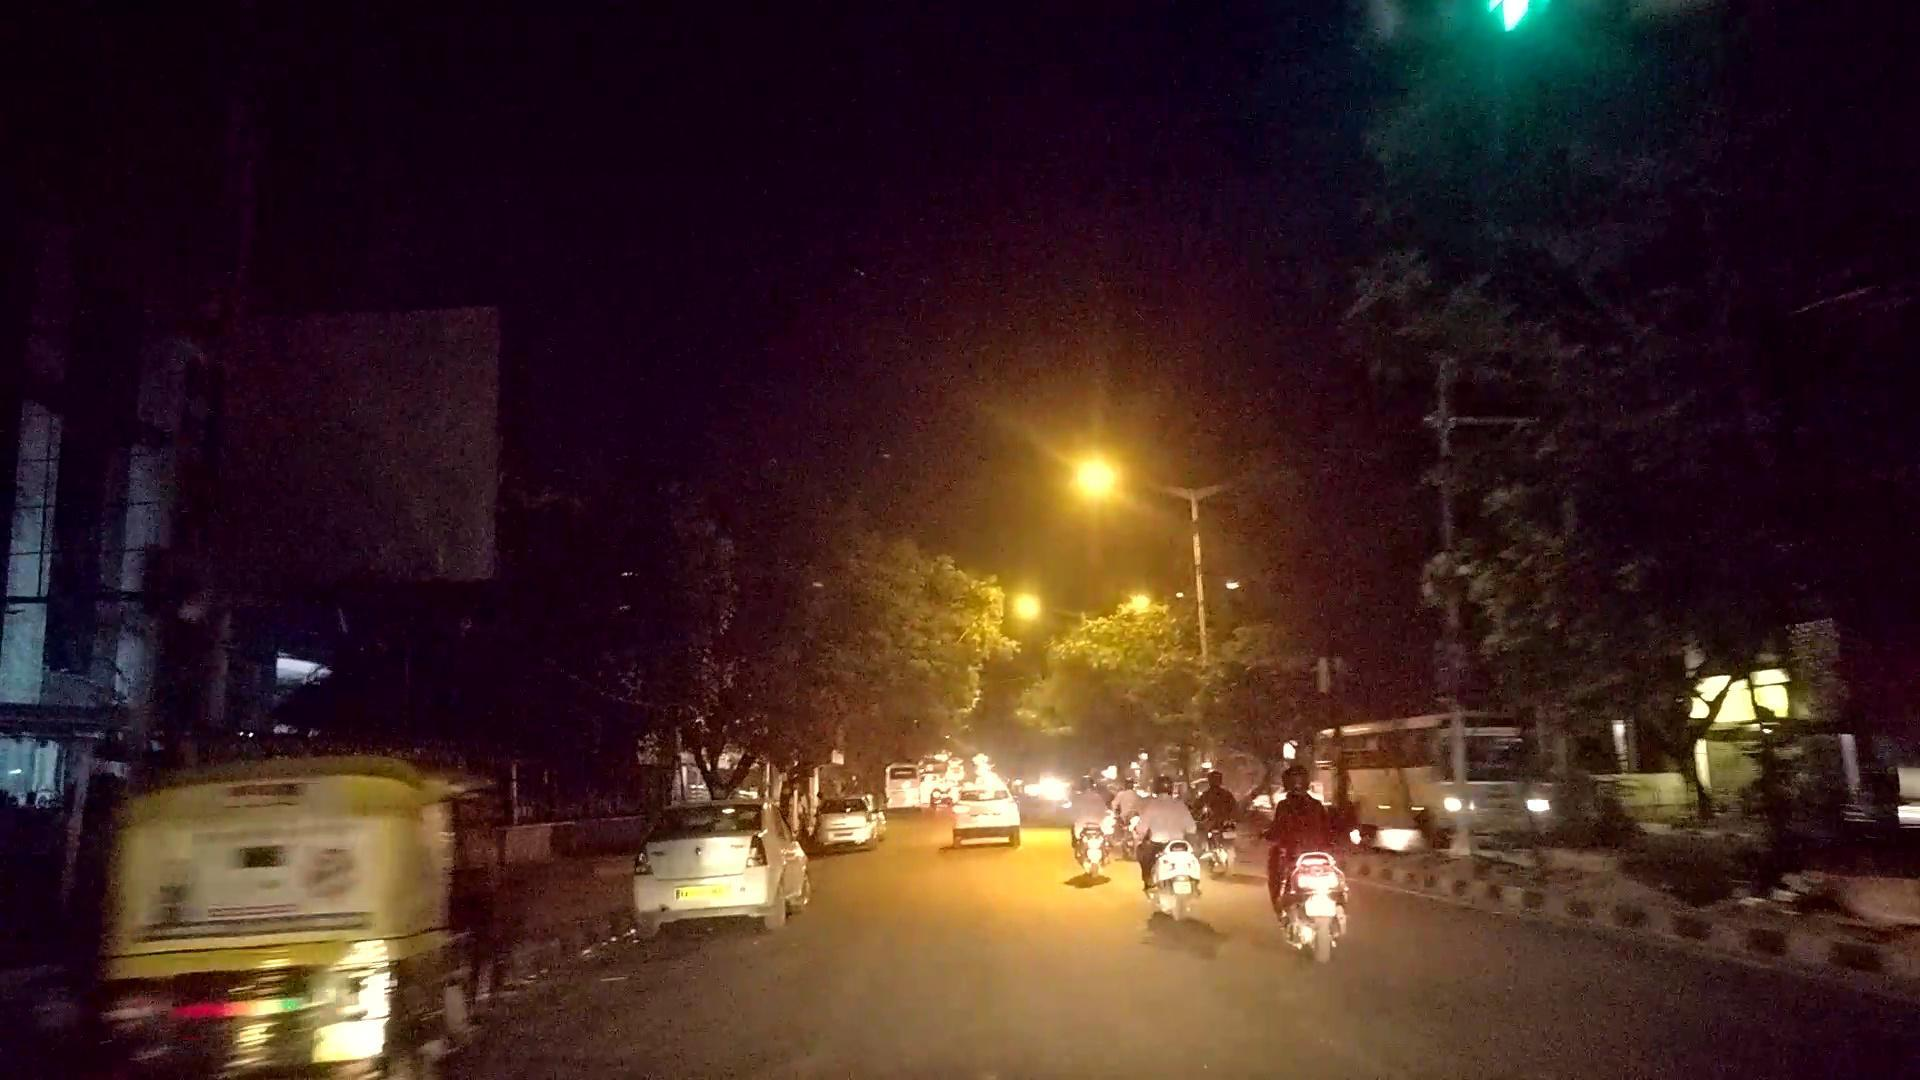on: (0, 0, 1815, 1080)
